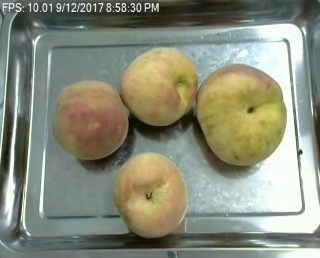Peach: (197, 63, 286, 166), (119, 46, 198, 127), (113, 153, 188, 238), (53, 79, 129, 160)
